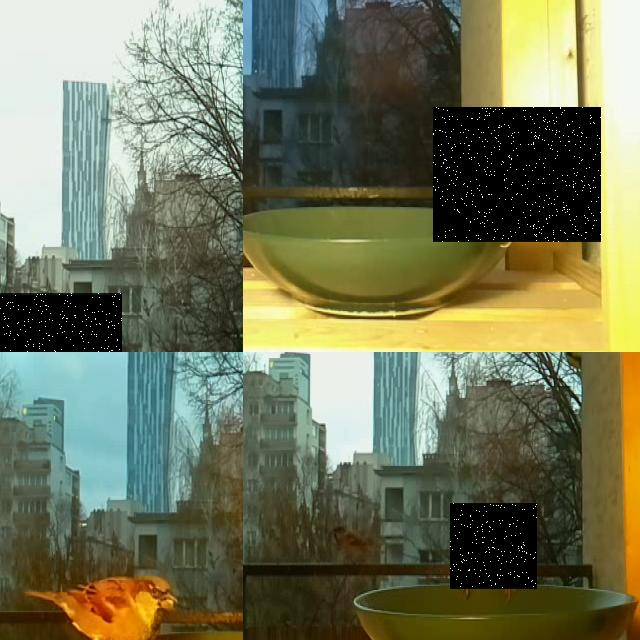Bogatka: (433, 107, 601, 242)
Wrobel: (18, 567, 181, 640), (450, 503, 537, 589), (0, 293, 122, 352)
